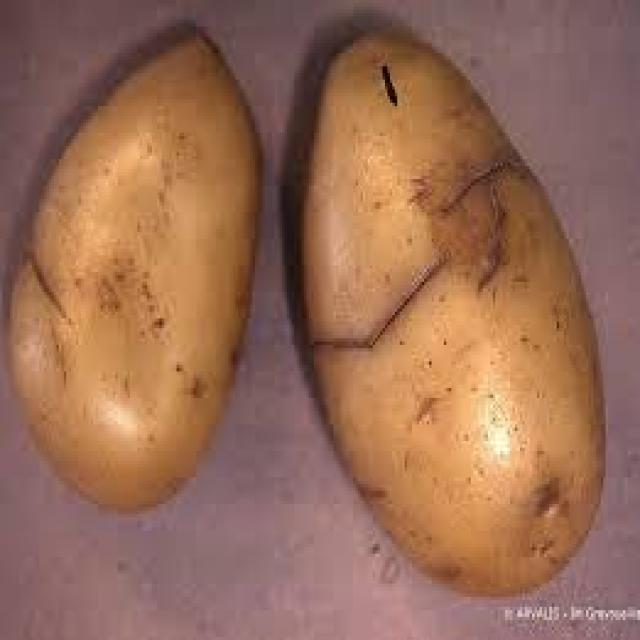Potato: (282, 29, 606, 601), (5, 20, 263, 514)
